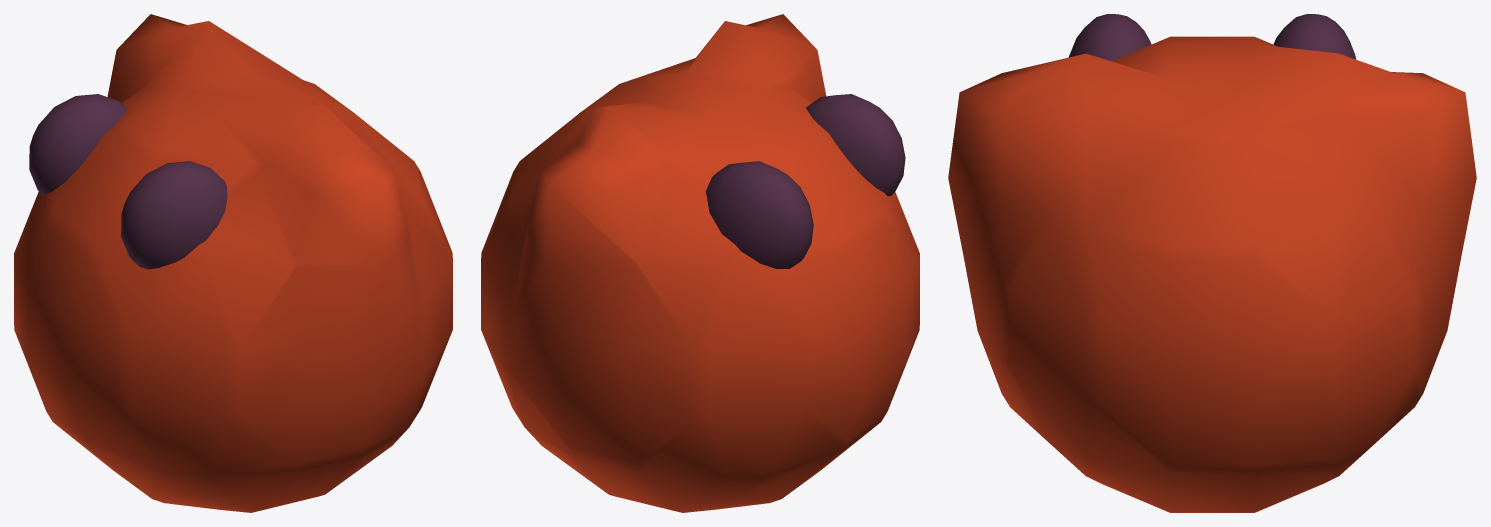
Rendered from Friend.fbx.
The picture shows the model from 3 angles, left to right: view 1: azimuth 30°, elevation 25°; view 2: azimuth 150°, elevation 25°; view 3: azimuth 270°, elevation 25°; orthographic projection. The views are drawn at different scales.
Visible parts, largest first — view 1: Body, Eye.R, Eye.L; view 2: Body, Eye.L, Eye.R; view 3: Body, Eye.R, Eye.L.
Part boxes in pixels (left/top/right/bottom): Body: left=14, top=14, right=452, bottom=512; Eye.R: left=121, top=161, right=227, bottom=269; Eye.L: left=29, top=94, right=126, bottom=196; Body: left=481, top=14, right=919, bottom=512; Eye.L: left=705, top=161, right=813, bottom=268; Eye.R: left=806, top=94, right=905, bottom=196; Body: left=948, top=36, right=1476, bottom=512; Eye.R: left=1068, top=14, right=1151, bottom=61; Eye.L: left=1273, top=14, right=1356, bottom=59.
Bounding box in the file's own units: 223 × 237 × 251.
